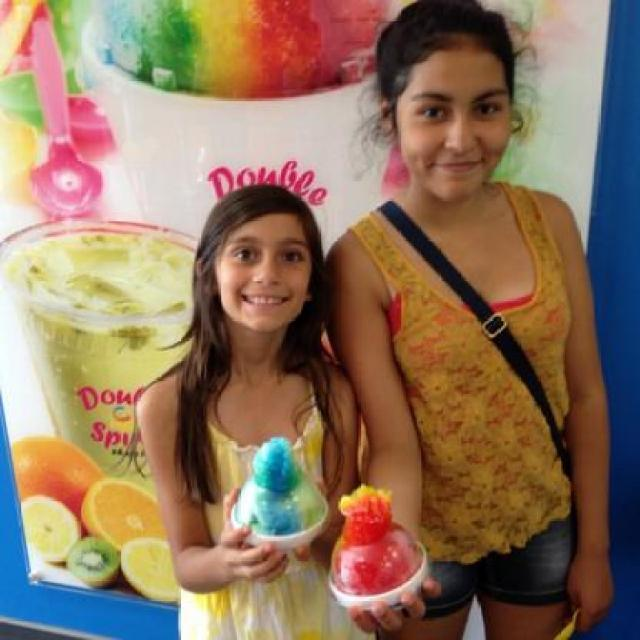Juice: (12, 213, 194, 550)
